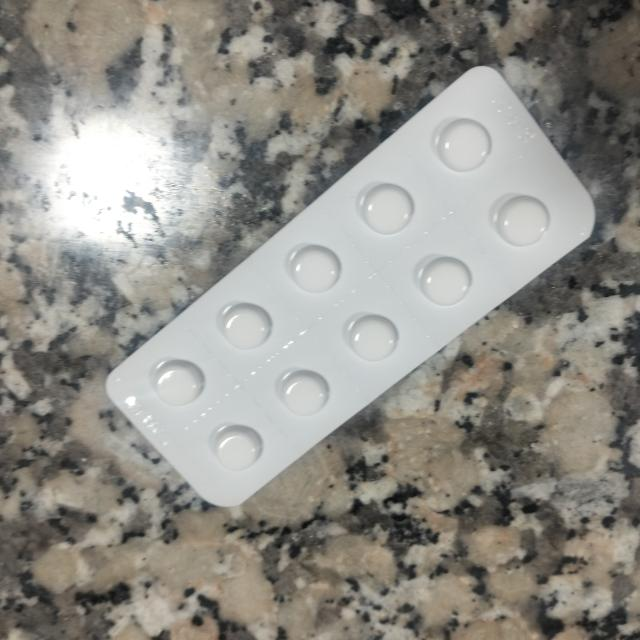blister: (106, 66, 597, 509)
